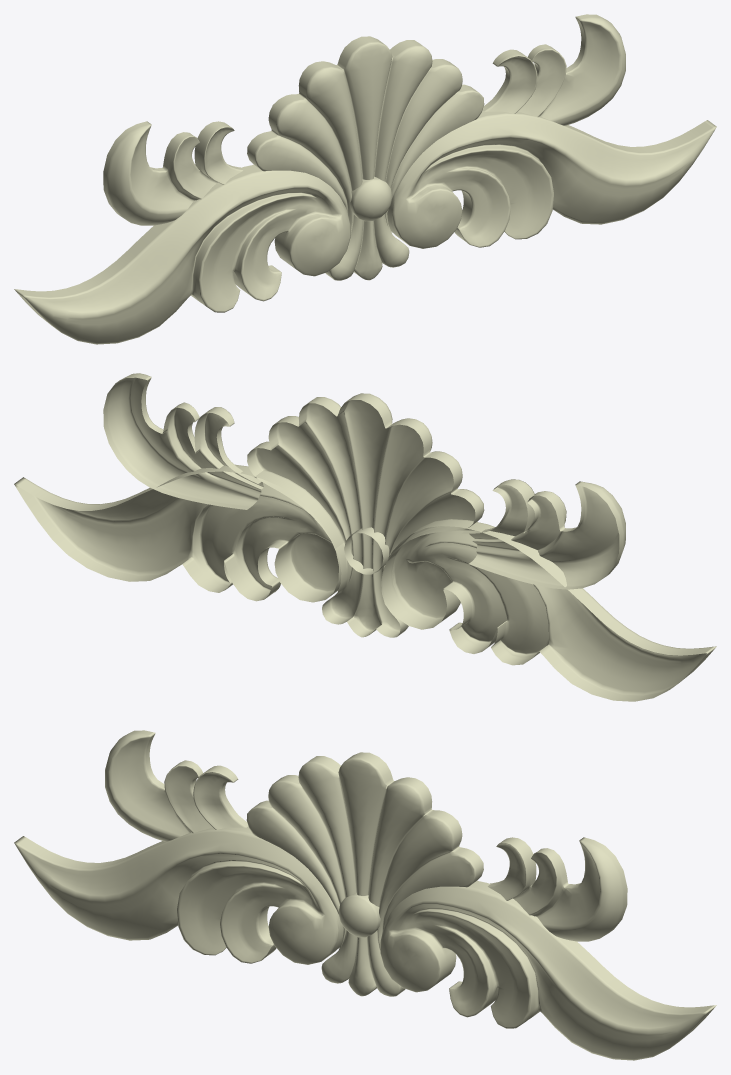
3 renders of one model, top to bottom at view 1: azimuth 30°, elevation 25°; view 2: azimuth 150°, elevation 25°; view 3: azimuth 330°, elevation 25°, orthographic.
Parts seen in each view (by area): view 1: Line1789577514; view 2: Line1789577514; view 3: Line1789577514.
Boxes of the visible parts, x1,y1,x2,y2 form: Line1789577514: (14, 14, 716, 344); Line1789577514: (14, 373, 716, 701); Line1789577514: (14, 730, 716, 1060).
Bounding box in the file's own units: 8.89 × 2.92 × 0.485.
